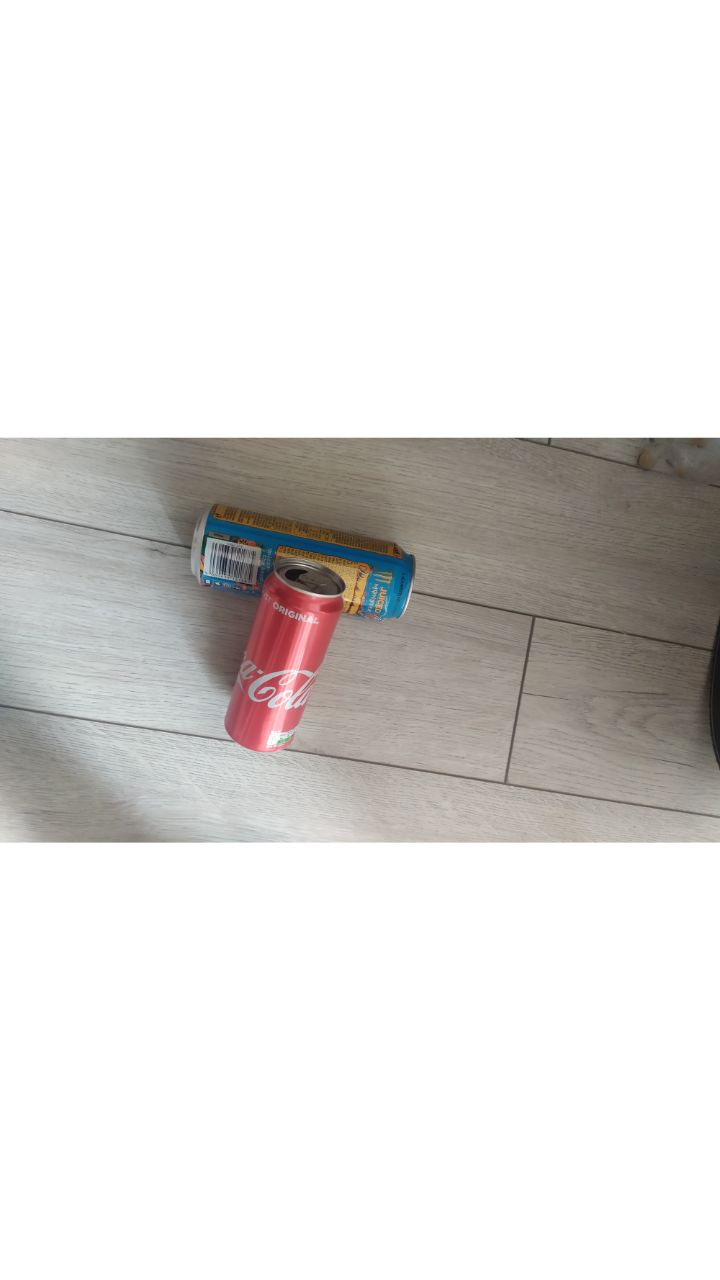Can: (173, 497, 417, 625), (223, 564, 341, 751)
